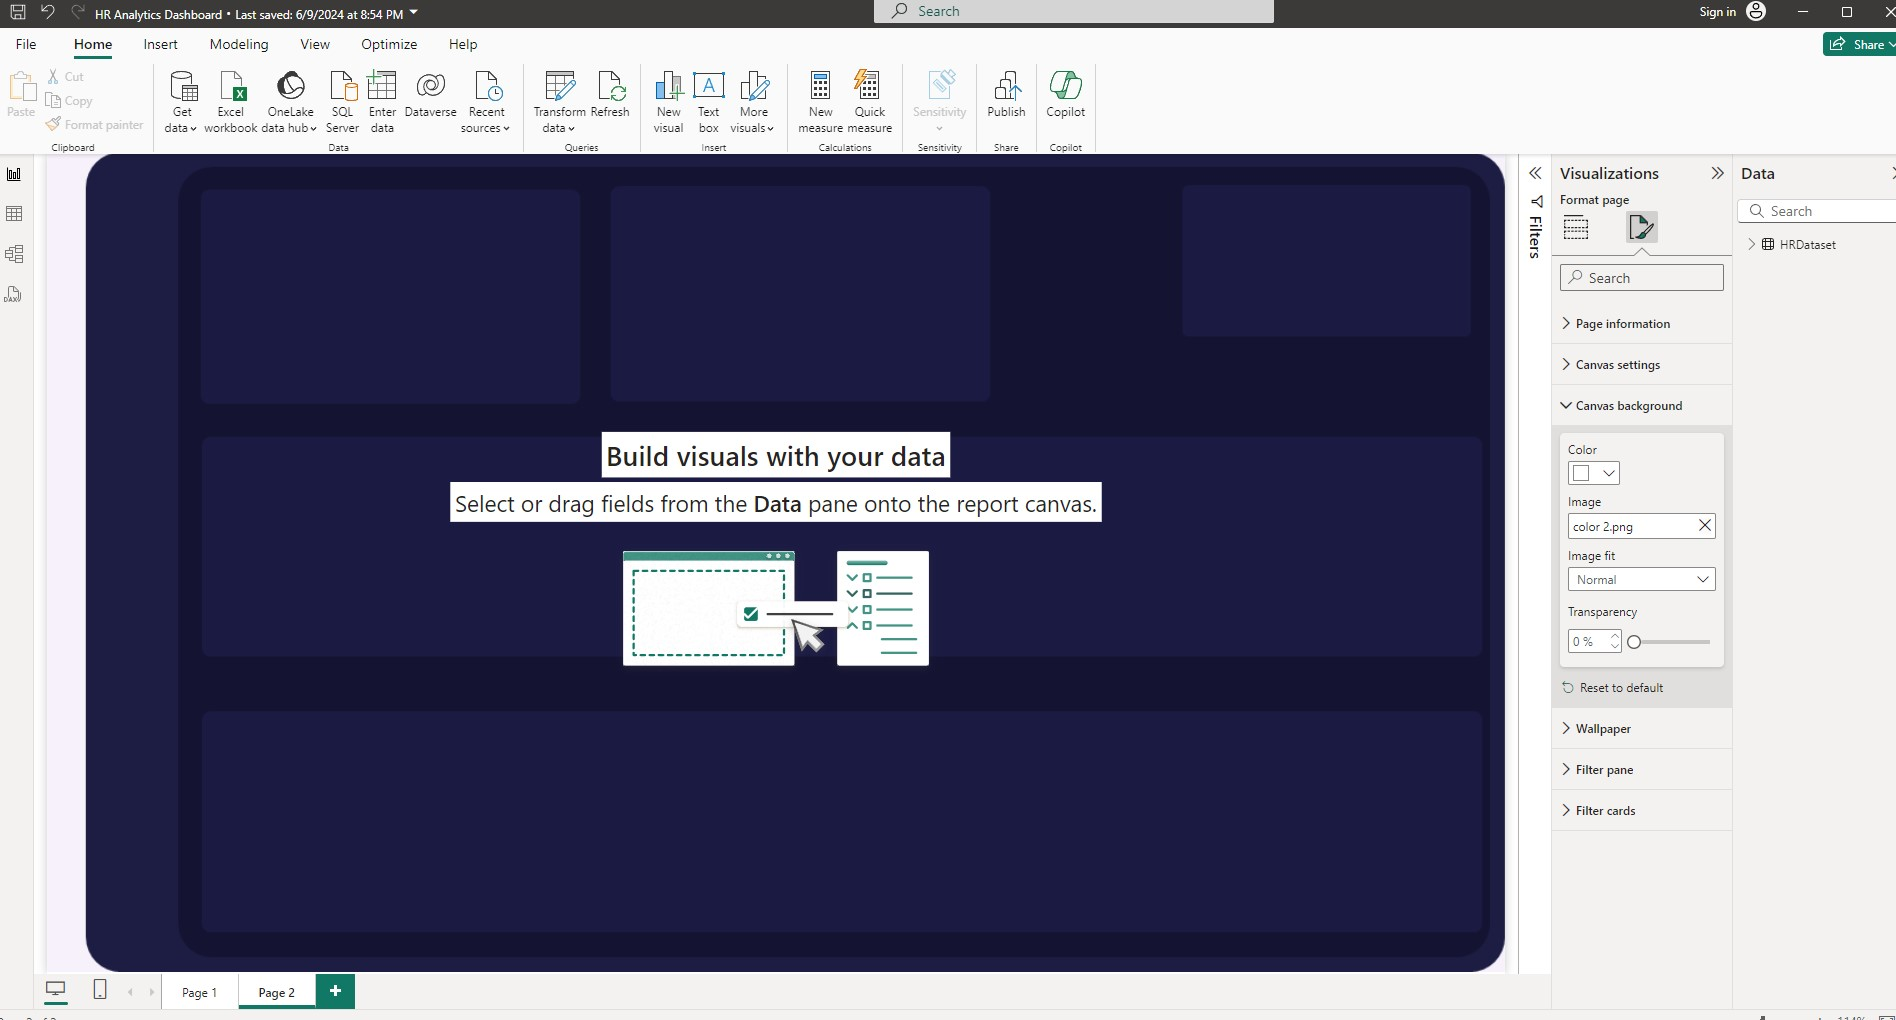

What the dashboard file says about the page in this screenshot:
{"tool":"powerbi","page":{"name":"Page 2","canvas":[1280,720],"ordinal":1},"visuals":[{"type":"card","fields":{"Values":["Min(HRDataset.Employee_Name)"]},"box":[151,39.5,295,171.2],"z":0},{"type":"card","fields":{"Values":["Min(HRDataset.CitizenDesc)"]},"box":[519.8,39.5,295,171.2],"z":1000},{"type":"card","fields":{"Values":["Min(HRDataset.Sex)"]},"box":[790.2,15.8,238.8,137.9],"z":2000},{"type":"card","fields":{"Values":["Min(HRDataset.DOB)"]},"box":[834.1,173.9,429.4,73.8],"z":3000},{"type":"card","fields":{"Values":["CountNonNull(HRDataset.EmpID)"]},"box":[151,282.7,268.7,137],"z":4000},{"type":"card","fields":{"Values":["Min(HRDataset.Department)"]},"box":[546.1,282.7,268.7,137],"z":5000},{"type":"card","fields":{"Values":["Min(HRDataset.DateofHire)"]},"box":[973.8,282.7,268.7,137],"z":6000},{"type":"card","fields":{"Values":["Min(HRDataset.EmploymentStatus)"]},"box":[151,526.8,268.7,137],"z":7000},{"type":"card","fields":{"Values":["Min(HRDataset.LastPerformanceReview_Date)"]},"box":[546.1,526.8,305.6,137],"z":8000},{"type":"card","fields":{"Values":["Sum(HRDataset.Salary)"]},"box":[973.8,526.8,268.7,137],"z":9000},{"type":"slicer","fields":{"Values":["HRDataset.Employee_Name"]},"box":[1022.9,27.2,219.5,134.3],"z":10000},{"type":"actionButton","box":[50.9,39.5,100.1,40.4],"z":10001}]}

Visuals, with their boxes on the page's 1280x720 design canvas (x1, y1, x2, y2). These are canvas units, not pixel positions in the 1896x1020 screenshot, which may show the page scaled, cropped or inside an application window:
card - Min(HRDataset.Employee_Name): x1=151 y1=40 x2=446 y2=211
card - Min(HRDataset.CitizenDesc): x1=520 y1=40 x2=815 y2=211
card - Min(HRDataset.Sex): x1=790 y1=16 x2=1029 y2=154
card - Min(HRDataset.DOB): x1=834 y1=174 x2=1264 y2=248
card - CountNonNull(HRDataset.EmpID): x1=151 y1=283 x2=420 y2=420
card - Min(HRDataset.Department): x1=546 y1=283 x2=815 y2=420
card - Min(HRDataset.DateofHire): x1=974 y1=283 x2=1242 y2=420
card - Min(HRDataset.EmploymentStatus): x1=151 y1=527 x2=420 y2=664
card - Min(HRDataset.LastPerformanceReview_Date): x1=546 y1=527 x2=852 y2=664
card - Sum(HRDataset.Salary): x1=974 y1=527 x2=1242 y2=664
slicer - HRDataset.Employee_Name: x1=1023 y1=27 x2=1242 y2=162
actionButton: x1=51 y1=40 x2=151 y2=80
